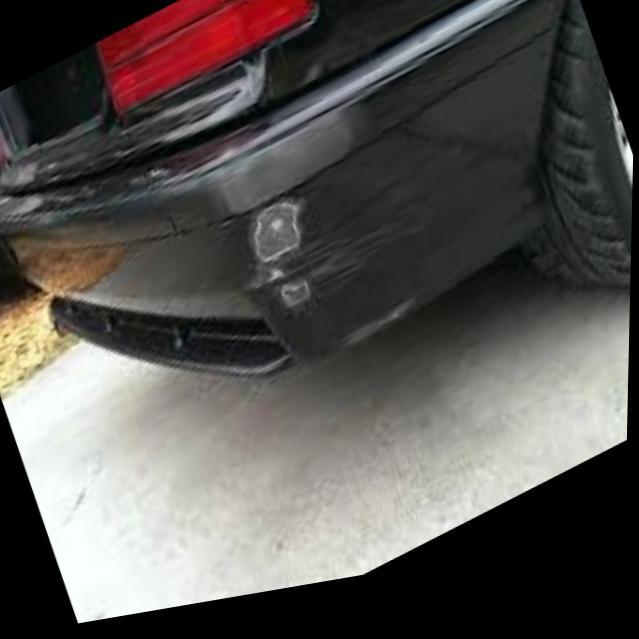rub: (245, 194, 433, 326)
